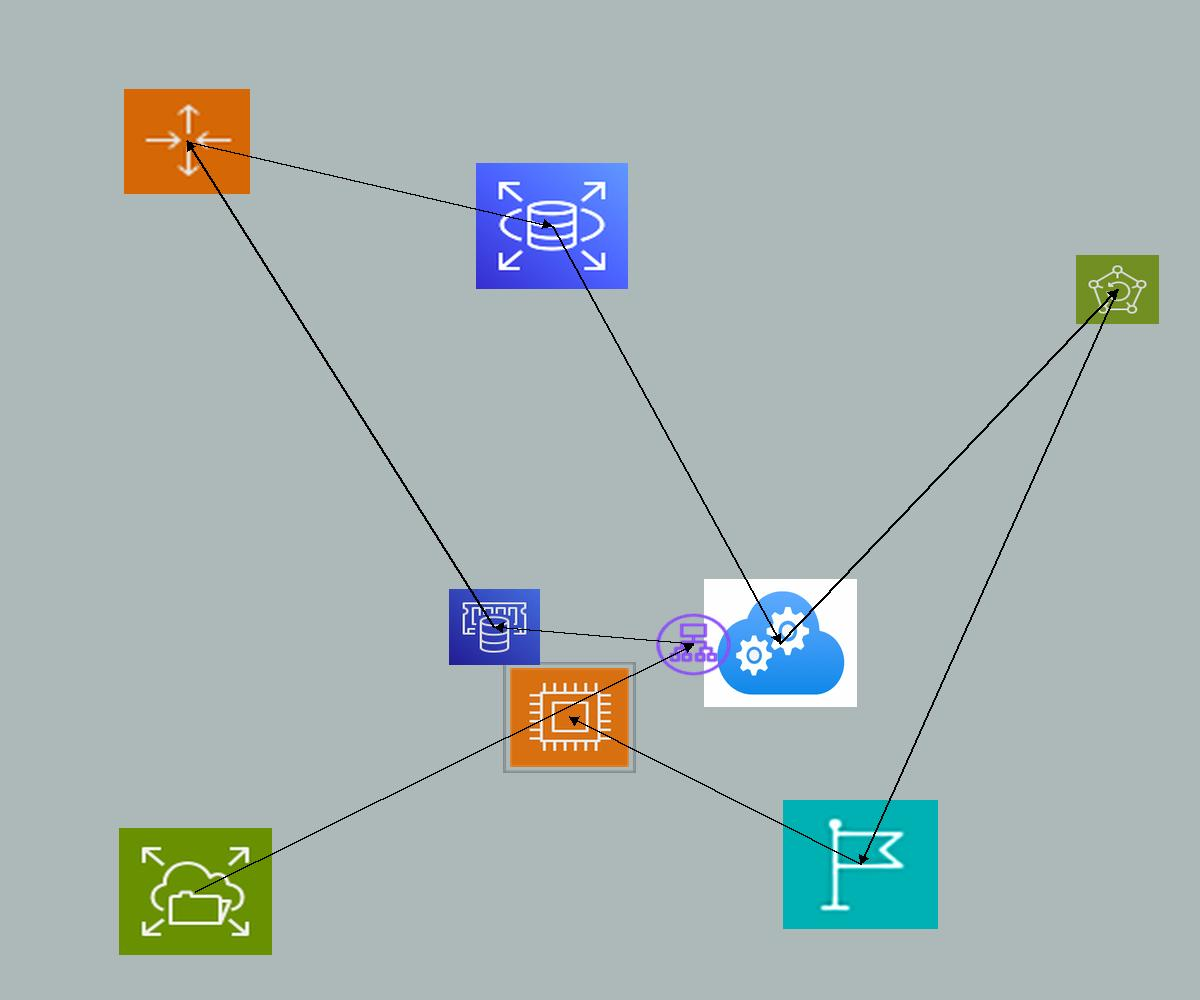AWS-Backup: (1076, 255, 1159, 324)
AWS-Category_Compute: (503, 662, 636, 773)
AWS-EFS: (119, 828, 272, 955)
AWS-ElastiCache: (449, 589, 540, 665)
AWS-RDS: (476, 163, 628, 289)
AWS-Region: (783, 800, 938, 929)
AWS-Res_Elastic-Load-Balancing_Application-Load-Balancer: (653, 611, 734, 678)
AWS-Scaling-group: (124, 89, 250, 194)
Azure_cloud_services: (704, 579, 857, 707)
